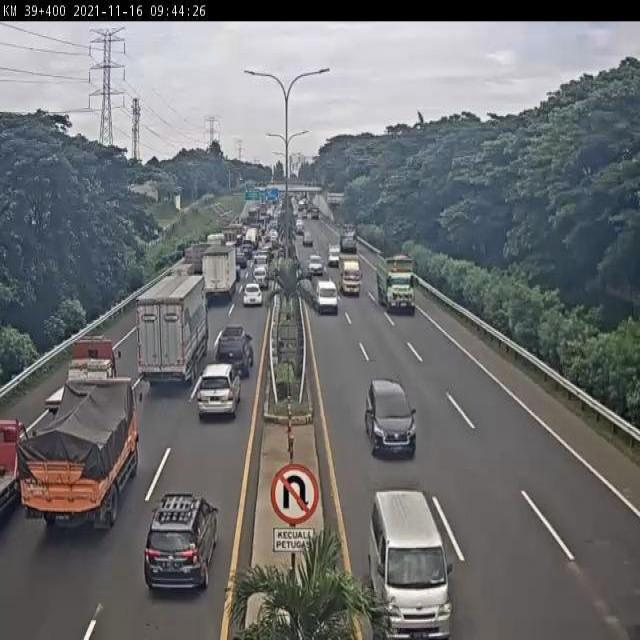car: (368, 489, 462, 640), (145, 489, 221, 600), (362, 380, 422, 457), (193, 362, 242, 418), (218, 323, 255, 372), (313, 277, 340, 319)
small truck: (2, 413, 27, 511)
truck-l-: (135, 268, 209, 392), (375, 252, 419, 313)
truck-m-: (16, 370, 139, 542), (46, 336, 114, 416), (199, 241, 237, 300), (338, 250, 362, 298)
